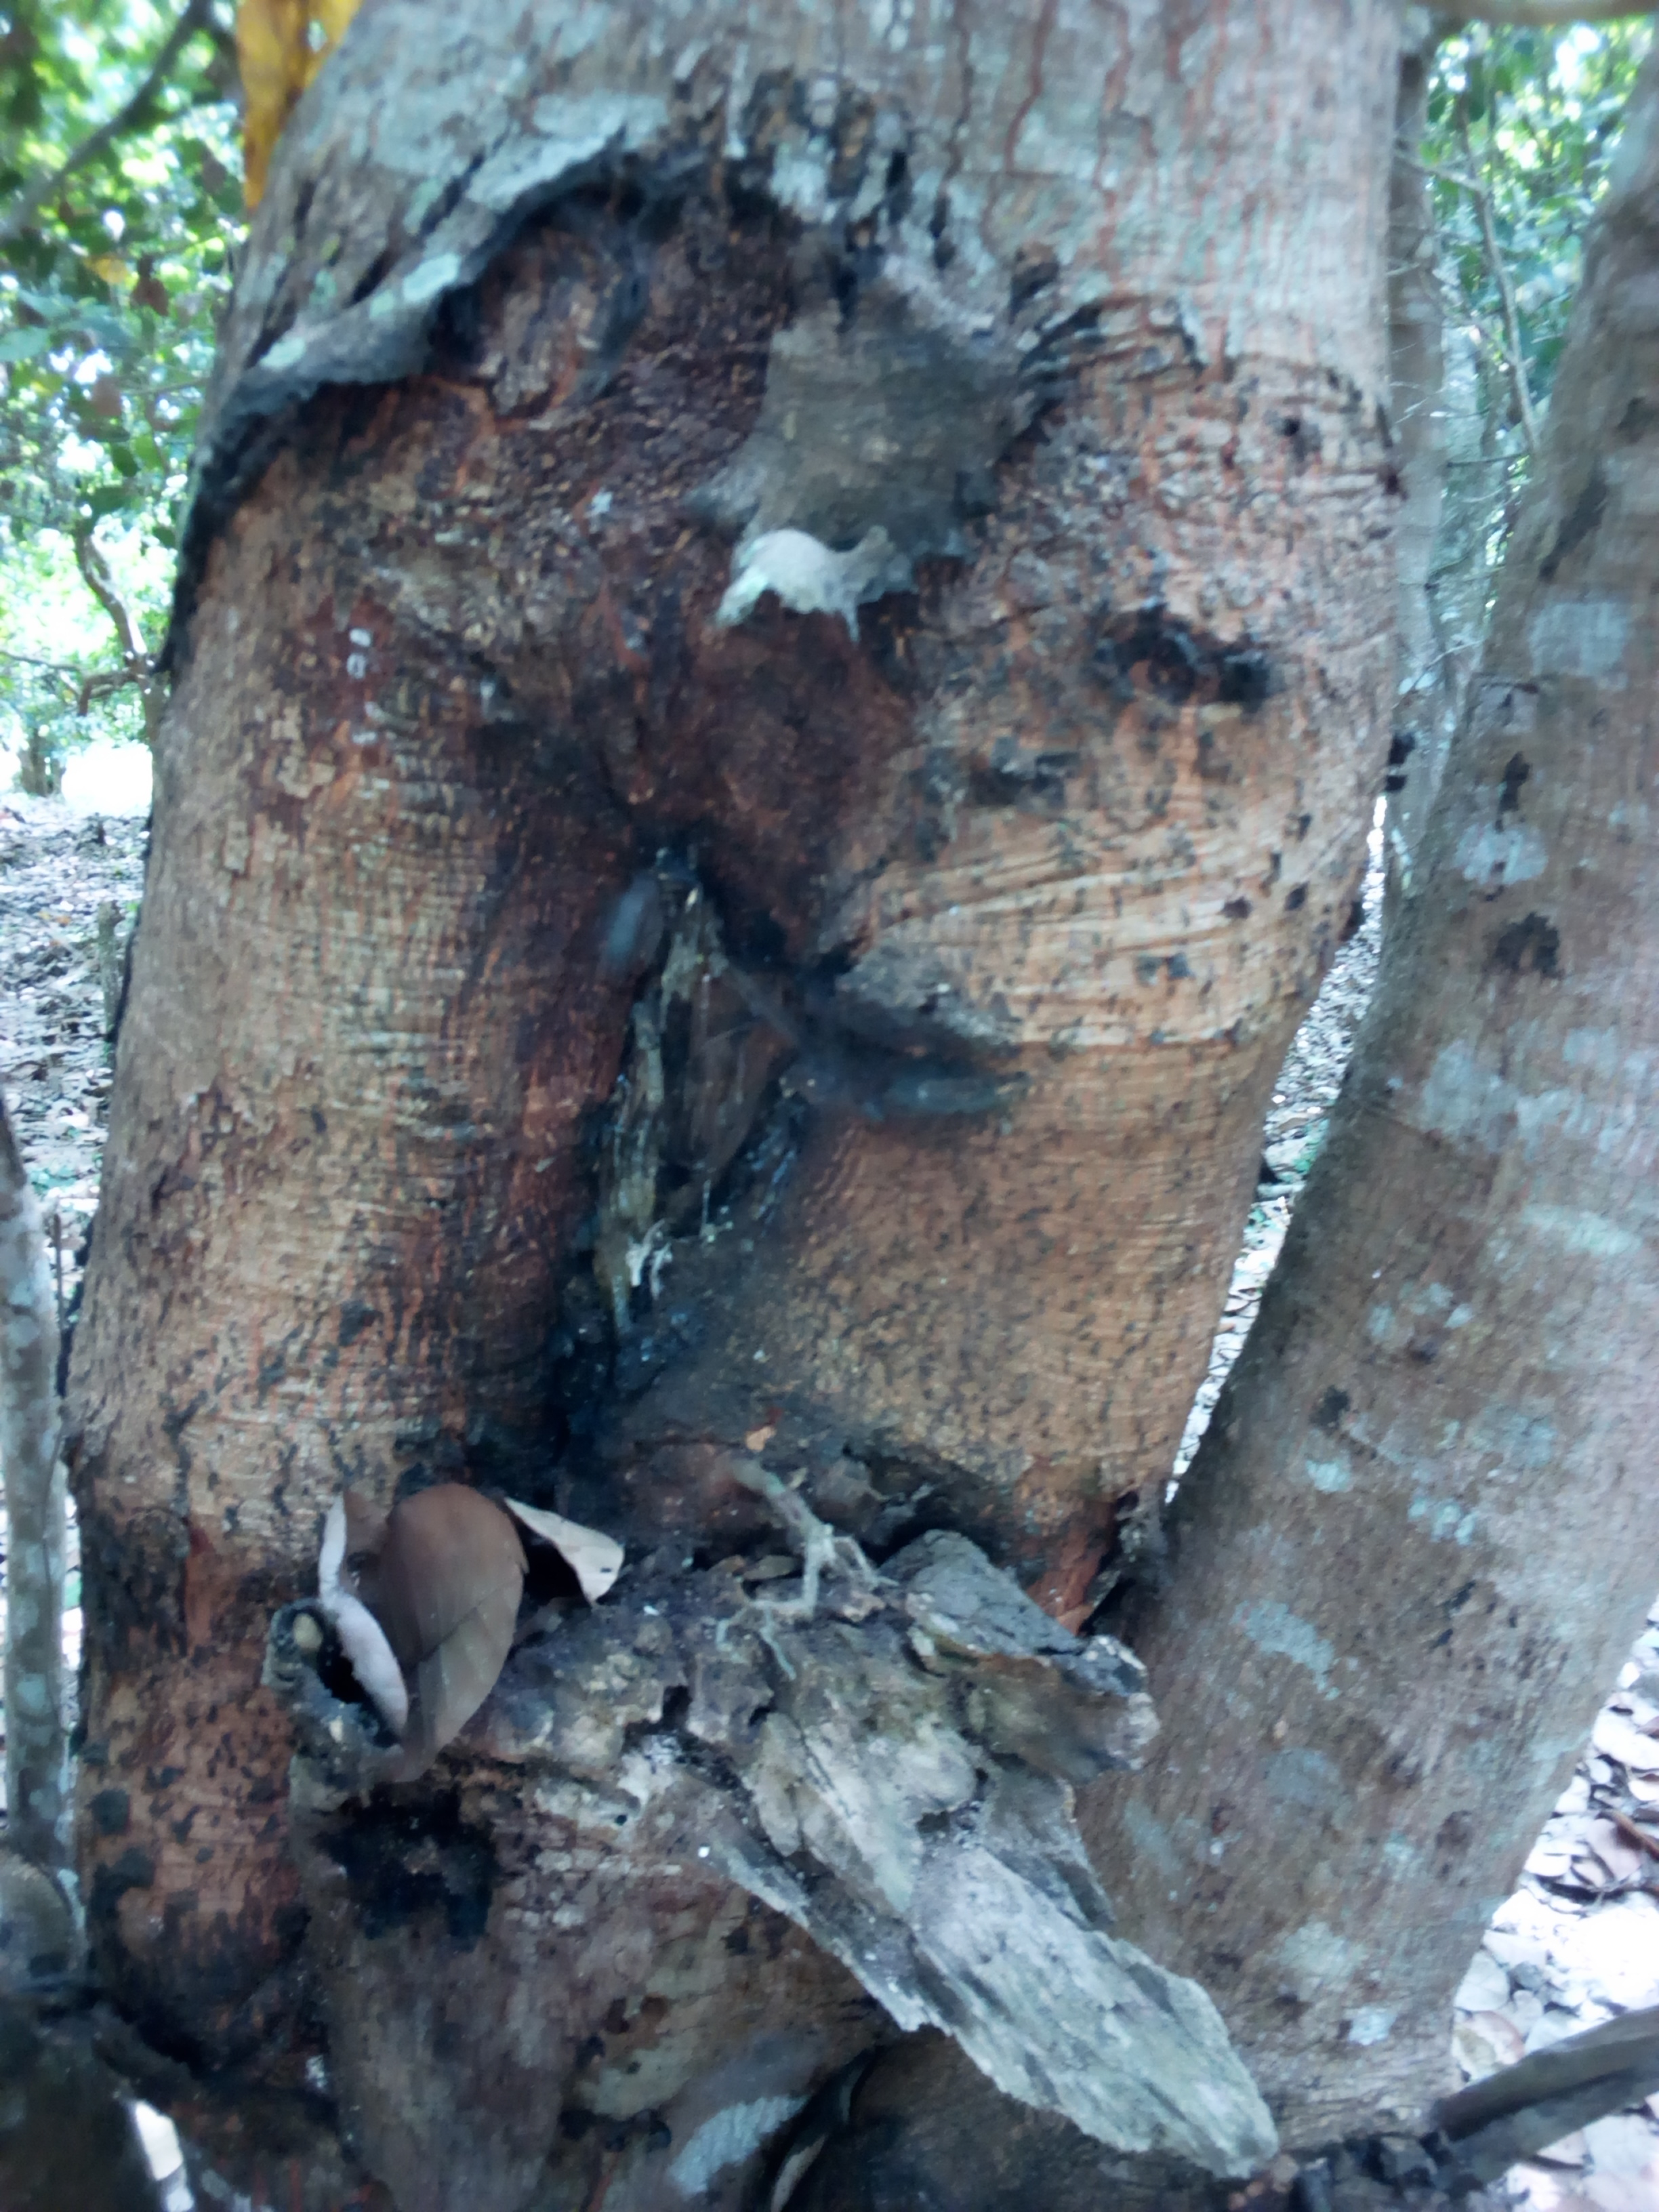ploceadorus ferrugineus: (213, 113, 1300, 2005)
